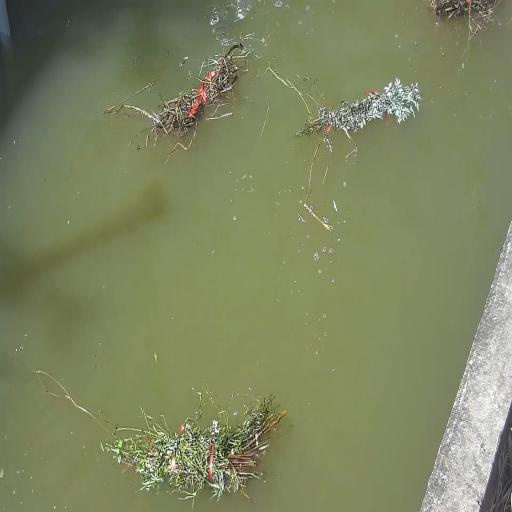twig: (102, 400, 272, 492), (122, 51, 249, 149), (297, 67, 423, 143), (431, 0, 498, 40)
